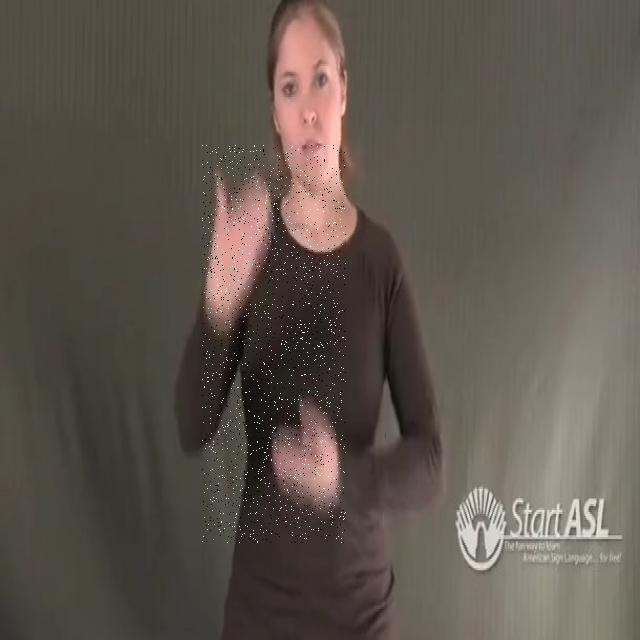bread: (202, 146, 346, 544)
